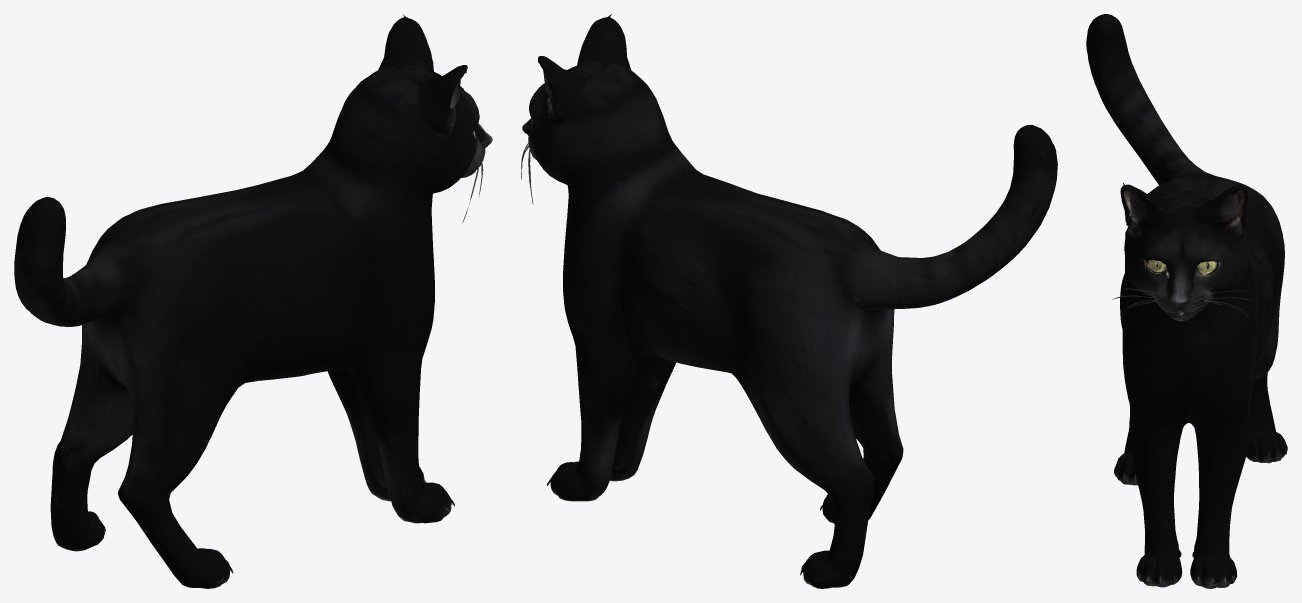
Rendered from THACKERY.glb.
3 renders of one model, left to right at view 1: azimuth 30°, elevation 25°; view 2: azimuth 150°, elevation 25°; view 3: azimuth 270°, elevation 25°, orthographic. The views are drawn at different scales.
Parts seen in each view (by area): view 1: fit; view 2: fit; view 3: fit.
Boxes of the visible parts, x1,y1,x2,y2 form: fit: (14,14,492,588); fit: (521,14,1057,588); fit: (1086,14,1287,588).
Size of the model in its own units: 1.16 by 1 by 0.4475.
1 material, 1 textured.
